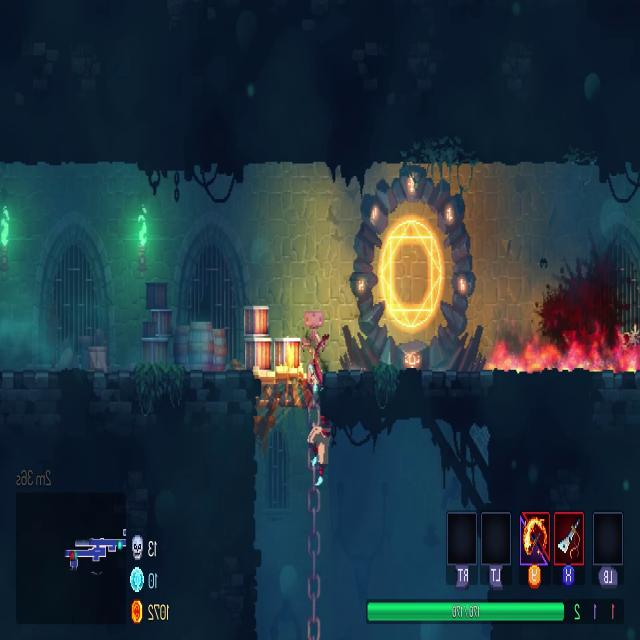agents: (304, 352, 334, 492)
wood_floor: (252, 363, 319, 413)
